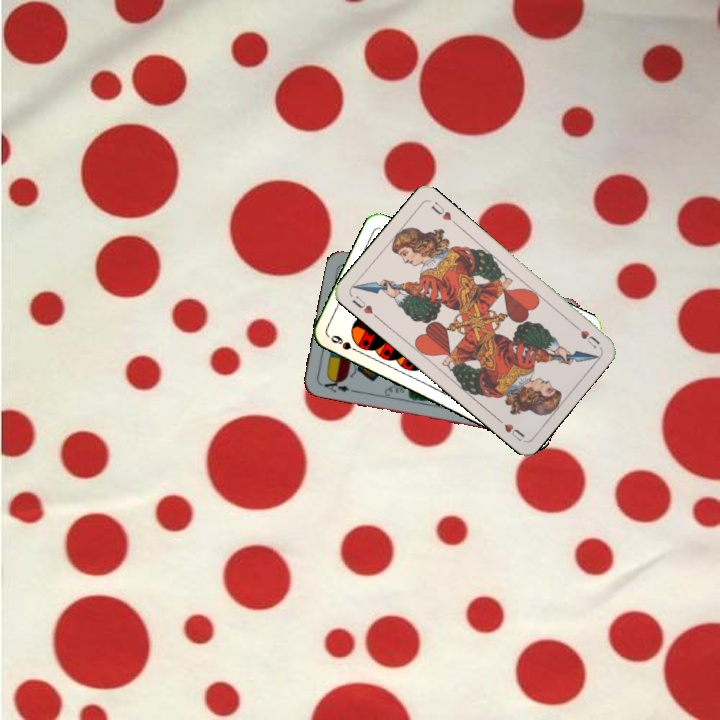EA: (316, 374, 352, 395)
HU: (569, 320, 602, 351), (347, 291, 381, 321)
S9: (326, 331, 364, 356)
